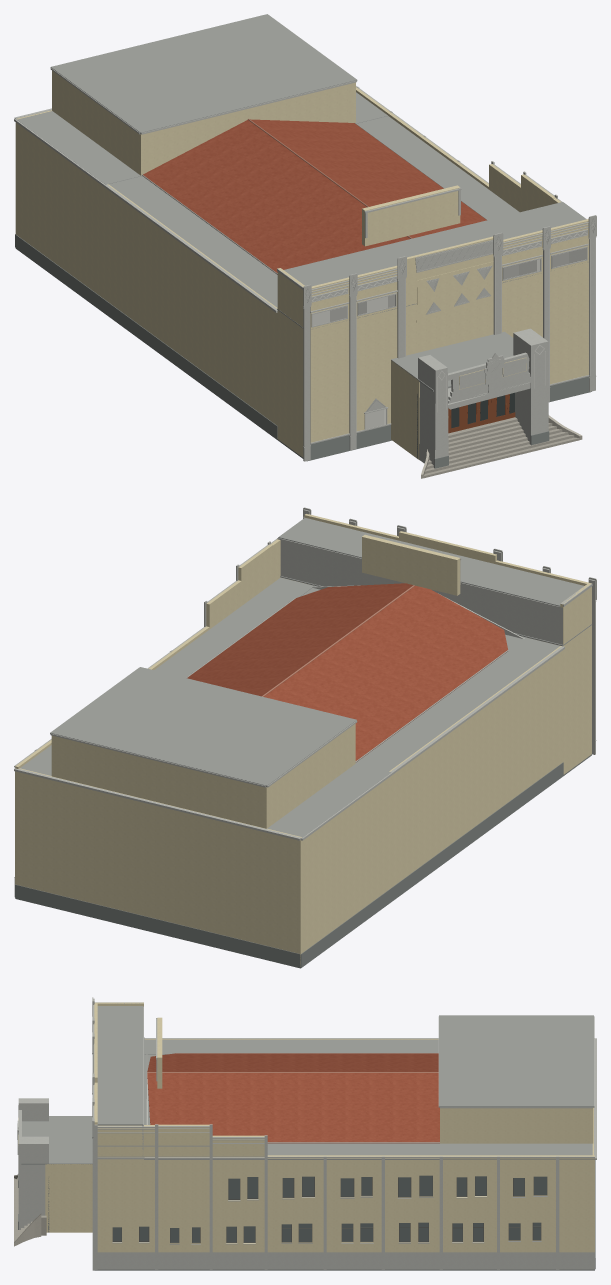
File: full-source.glb
The picture shows the model from 3 angles, top to bottom: view 1: azimuth 30°, elevation 25°; view 2: azimuth 150°, elevation 25°; view 3: azimuth 270°, elevation 25°; orthographic projection. The views are drawn at different scales.
Parts seen in each view (by area): view 1: 上海中学历史大礼堂; view 2: 上海中学历史大礼堂; view 3: 上海中学历史大礼堂.
Boxes of the visible parts, x1,y1,x2,y2 form: 上海中学历史大礼堂: (14, 14, 596, 478); 上海中学历史大礼堂: (14, 507, 596, 968); 上海中学历史大礼堂: (14, 997, 596, 1270).
Bounding box in the file's own units: 32.35 × 21.19 × 64.75.
Materials: 16 (4 with a texture image).
